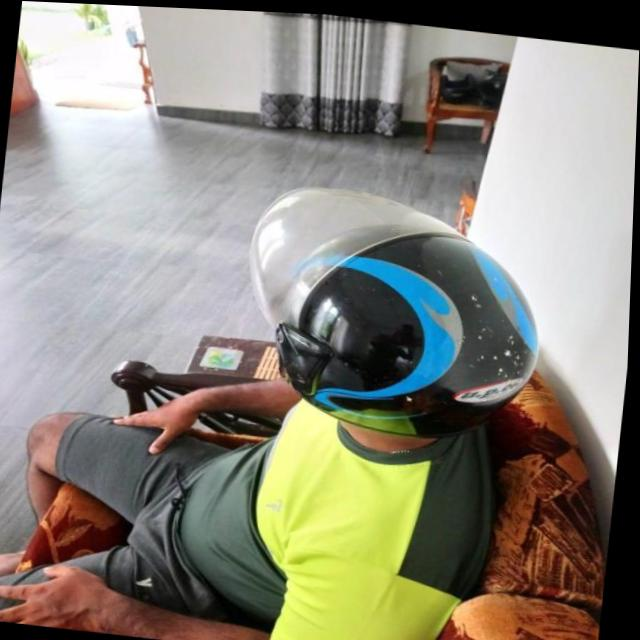helmet: (234, 172, 555, 445)
